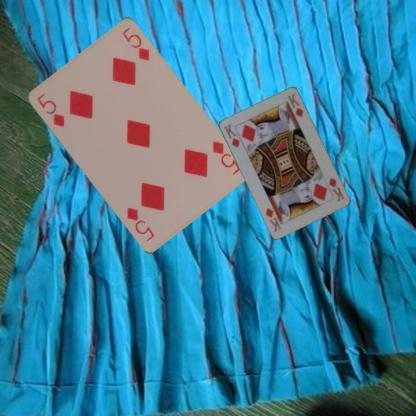5d: (33, 90, 66, 128), (209, 138, 242, 176)
Kd: (322, 175, 345, 203), (221, 121, 241, 148)
